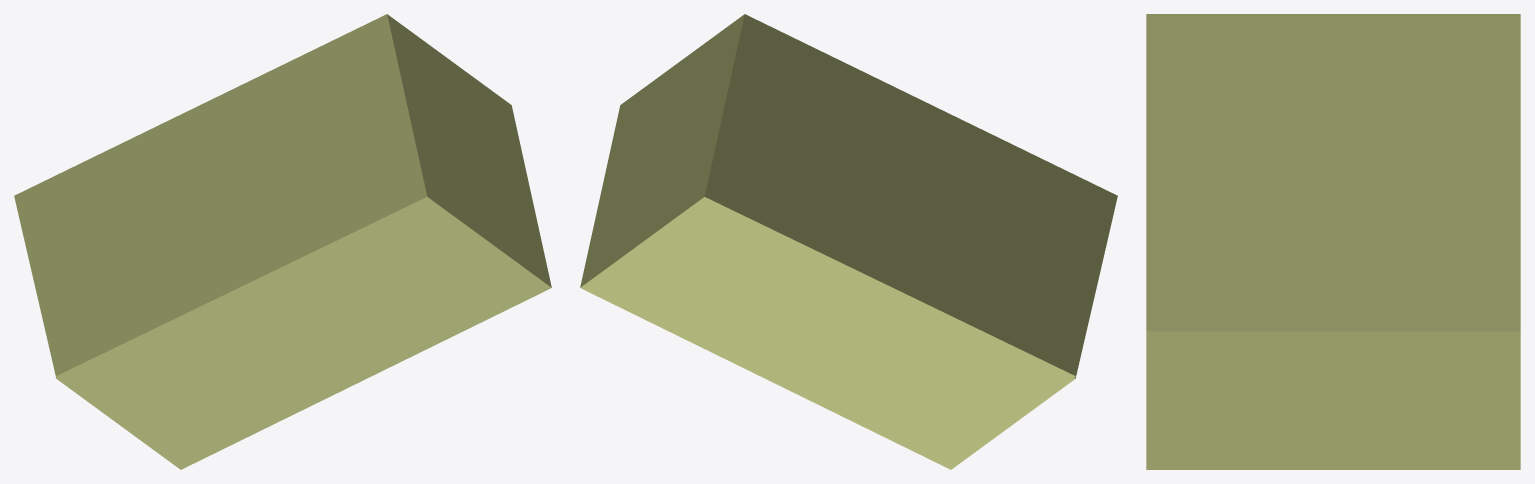
3 views of the same model, side by side, from view 1: azimuth 30°, elevation 25°; view 2: azimuth 150°, elevation 25°; view 3: azimuth 270°, elevation 25° (orthographic). The views are drawn at different scales.
Parts seen in each view (by area): view 1: 0_1_0_0_3_0_2_0_3_3; view 2: 0_1_0_0_3_0_2_0_3_3; view 3: 0_1_0_0_3_0_2_0_3_3.
Part boxes in pixels (x1,y1,x2,y2): 0_1_0_0_3_0_2_0_3_3: (14,14,551,469); 0_1_0_0_3_0_2_0_3_3: (580,14,1117,469); 0_1_0_0_3_0_2_0_3_3: (1146,14,1520,469).
Bounding box in the file's own units: 11.49 × 7.55 × 6.
